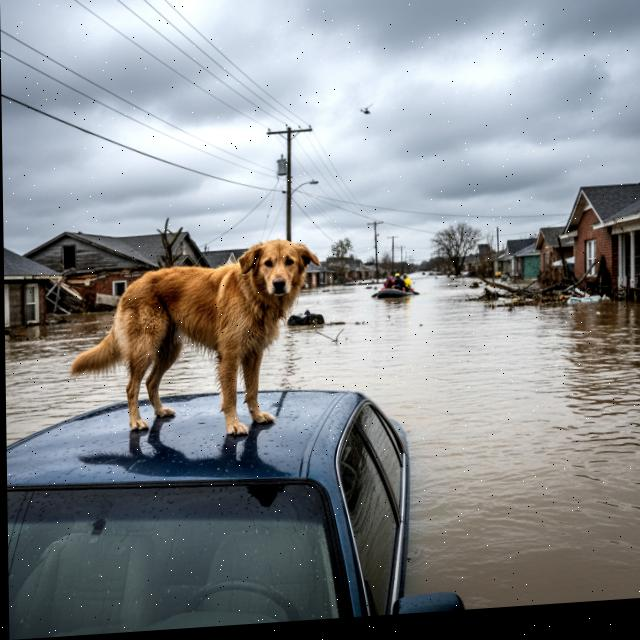dog: (68, 228, 319, 456)
rescuer: (390, 271, 408, 293), (398, 269, 414, 290)
